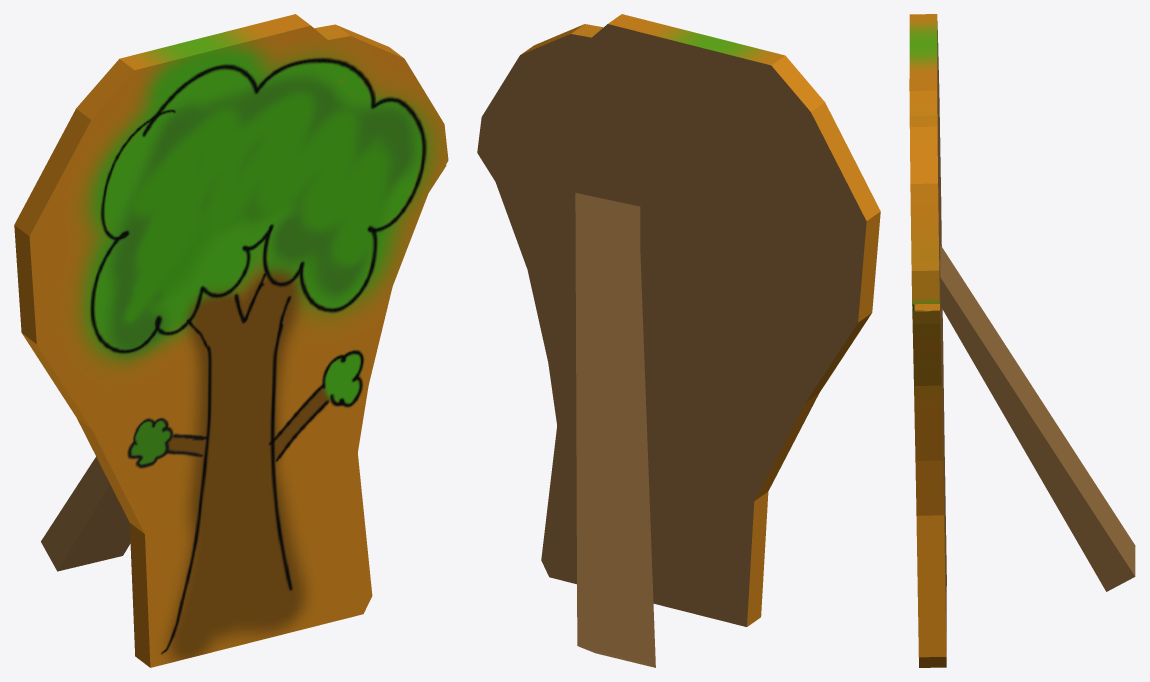
Rendered from Baum_1.fbx.
The picture shows the model from 3 angles, left to right: view 1: azimuth 30°, elevation 25°; view 2: azimuth 150°, elevation 25°; view 3: azimuth 270°, elevation 25°; orthographic projection. The views are drawn at different scales.
Parts seen in each view (by area): view 1: Plane; view 2: Plane; view 3: Plane.
Boxes of the visible parts, x1=… form: Plane: x1=14, y1=14, x2=448, y2=667; Plane: x1=477, y1=14, x2=880, y2=667; Plane: x1=909, y1=14, x2=1135, y2=667.
Size of the model in its own units: 70.19 by 97.35 by 36.03.
2 materials, 1 textured.
